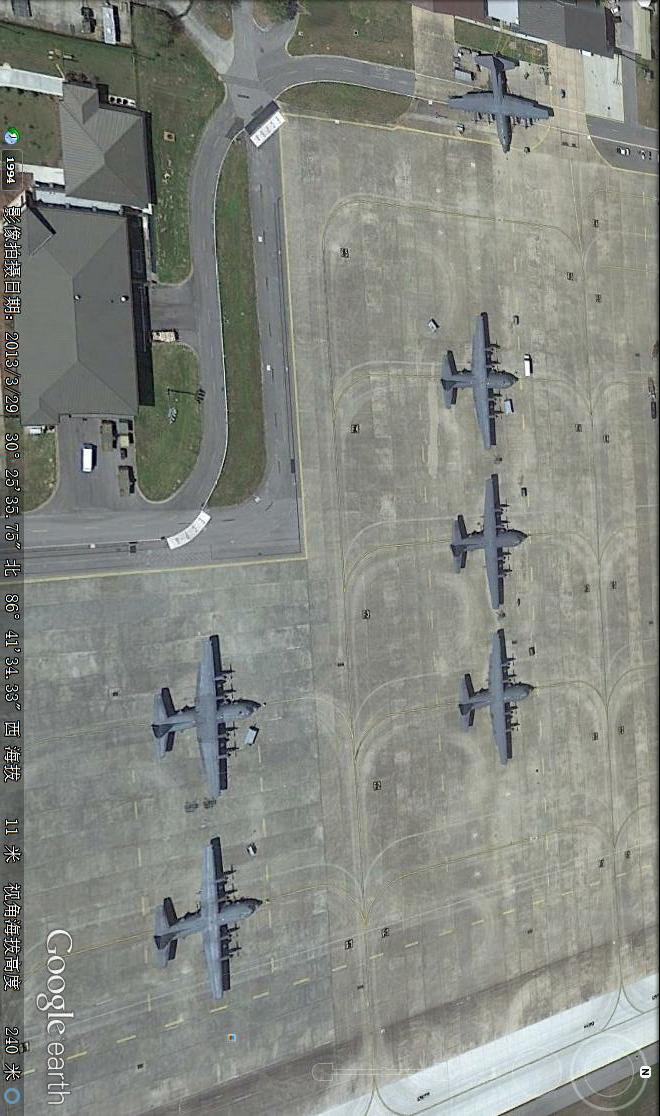C-130: (148, 835, 265, 1003), (148, 635, 266, 794), (439, 48, 559, 151), (446, 473, 528, 614), (436, 314, 520, 448), (458, 632, 532, 767)
